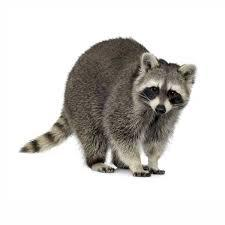raccoon: (14, 31, 208, 183)
